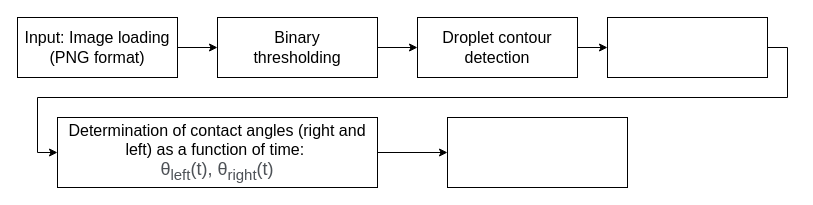
The diagram is 813 pixels wide and 205 high, and some of its shapes have lost their labels. Here are the shapes that lost their labels. From the top down, the centre of each, then its label:
(687,47): Image stabilization (object tracking)
(537,152): FFT analysis
